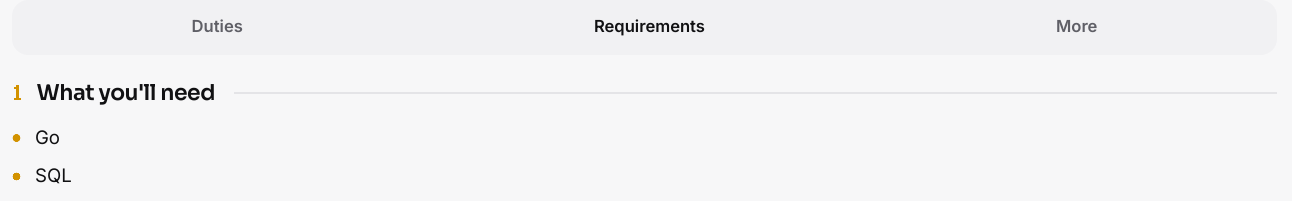
Test case: JobDescription › switches to the section of the picked tab
Click the tab "Duties" at (217, 27), box [17,5,417,48]
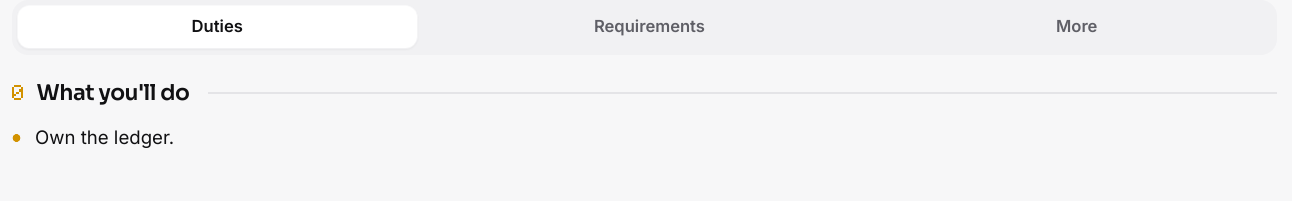
Now the panel shows "Own the ledger.", box [35,126,174,148]
